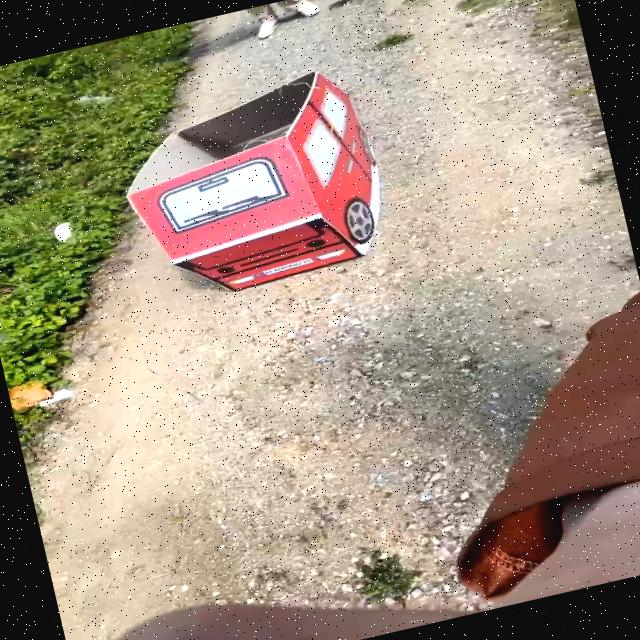red_car: (99, 56, 422, 328)
